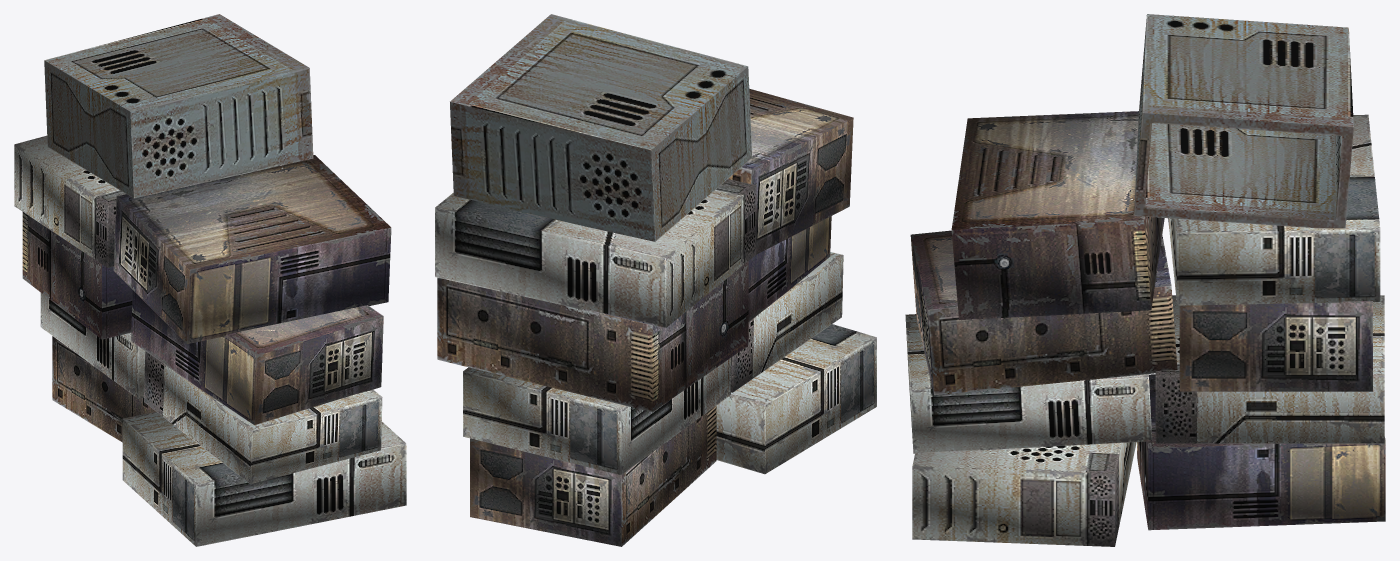
File: Junk01.FBX
3 views of the same model, side by side, from view 1: azimuth 30°, elevation 25°; view 2: azimuth 150°, elevation 25°; view 3: azimuth 270°, elevation 25° (orthographic). The views are drawn at different scales.
Visible parts, largest first — view 1: Junk01; view 2: Junk01; view 3: Junk01.
Boxes of the visible parts, x1,y1,x2,y2 form: Junk01: [14, 14, 406, 546]; Junk01: [435, 14, 876, 546]; Junk01: [905, 14, 1385, 546].
Bounding box in the file's own units: 1.12 × 1.83 × 1.87.
